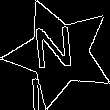N_S: (37, 26, 81, 81)
